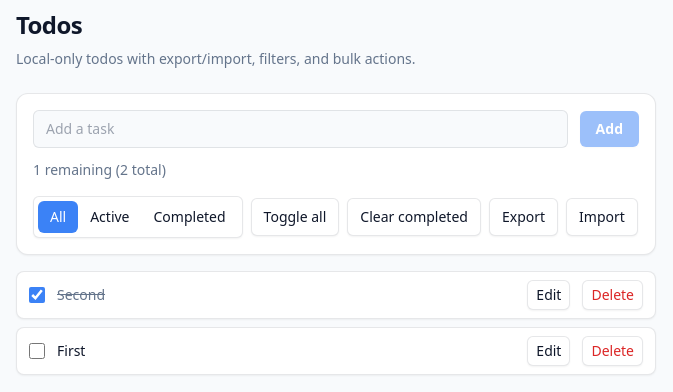
Scenario: inline edit: Enter saves trimmed title
The width and height of the screenshot is (673, 392).
Click the button with aria-label "edit todo: first": click(549, 351) [527,336,570,366]
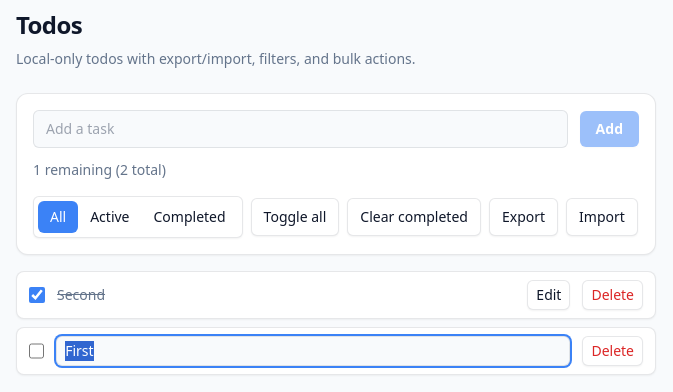
Replace the text in the field named "edit todo title" with "  Updated  ": (313, 351) [56,336,570,366]
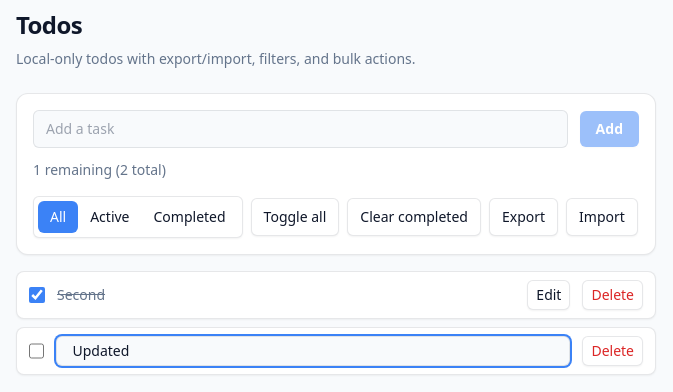
Press Enter in the field named "edit todo title", box [56,336,570,366]
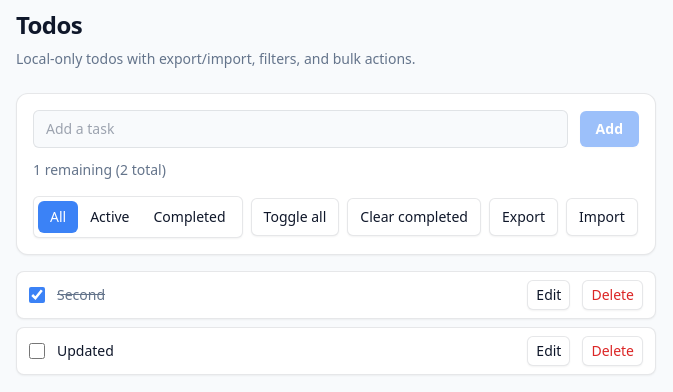
Check: the text "Updated" is shown, box [57,341,114,361]
